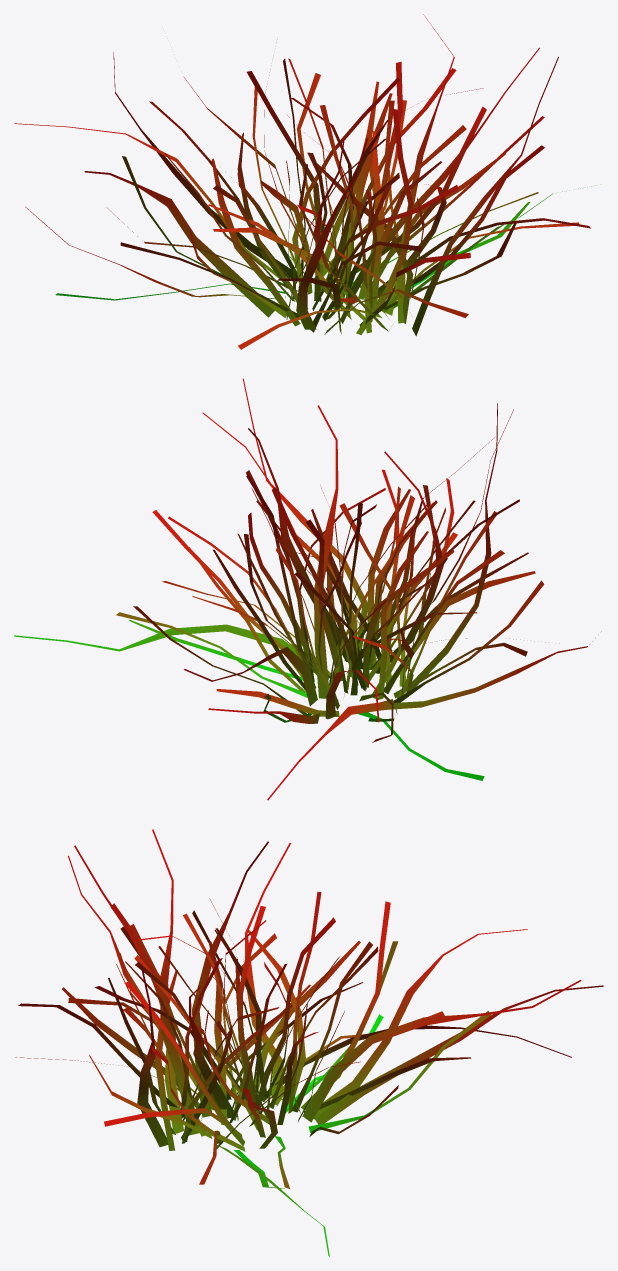
File: Var4_LOD1.fbx
The picture shows the model from 3 angles, top to bottom: view 1: azimuth 30°, elevation 25°; view 2: azimuth 150°, elevation 25°; view 3: azimuth 270°, elevation 25°; orthographic projection. The views are drawn at different scales.
Parts seen in each view (by area): view 1: _v3is_Var4_LOD1; view 2: _v3is_Var4_LOD1; view 3: _v3is_Var4_LOD1.
Boxes of the visible parts, box(x1,y1,x2,y2) form: _v3is_Var4_LOD1: box(14, 14, 600, 349); _v3is_Var4_LOD1: box(14, 378, 601, 800); _v3is_Var4_LOD1: box(15, 829, 603, 1256).
Bounding box in the file's own units: 40.58 × 18.14 × 36.05.
